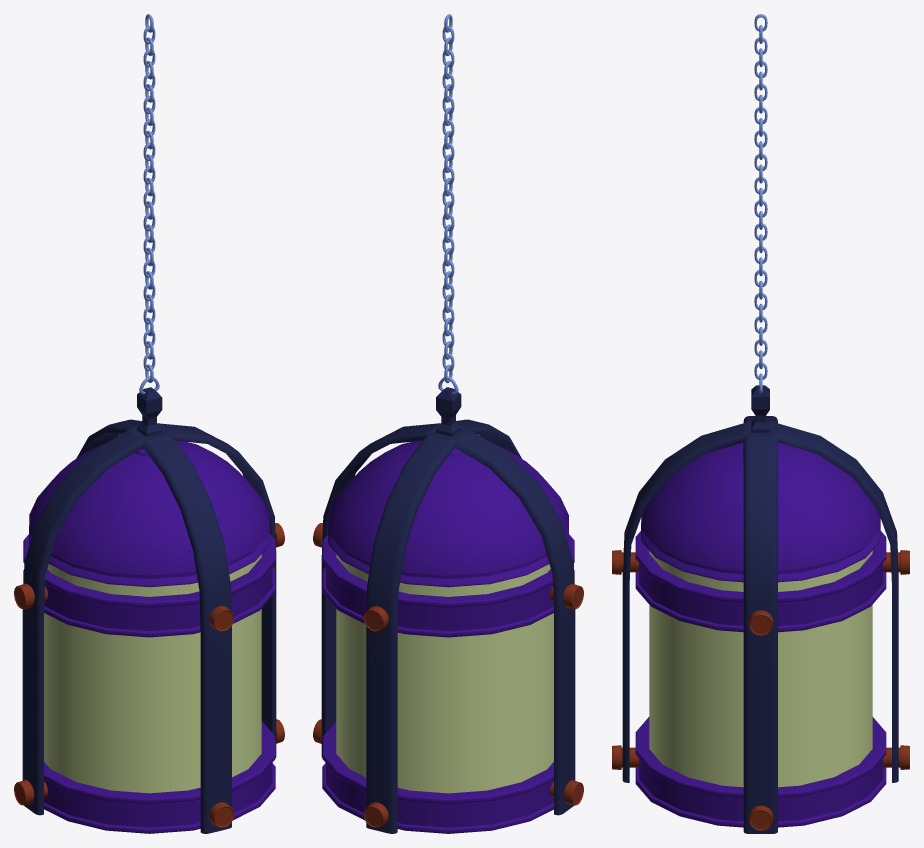
Rendered from Lantern.FBX.
3 views of the same model, side by side, from view 1: azimuth 30°, elevation 25°; view 2: azimuth 150°, elevation 25°; view 3: azimuth 270°, elevation 25° (orthographic).
Visible parts, largest first — view 1: Lantern; view 2: Lantern; view 3: Lantern.
Boxes of the visible parts, x1=… form: Lantern: x1=14, y1=14, x2=284, y2=833; Lantern: x1=313, y1=14, x2=583, y2=833; Lantern: x1=612, y1=14, x2=909, y2=833.
Size of the model in its own units: 110 by 309 by 110.
